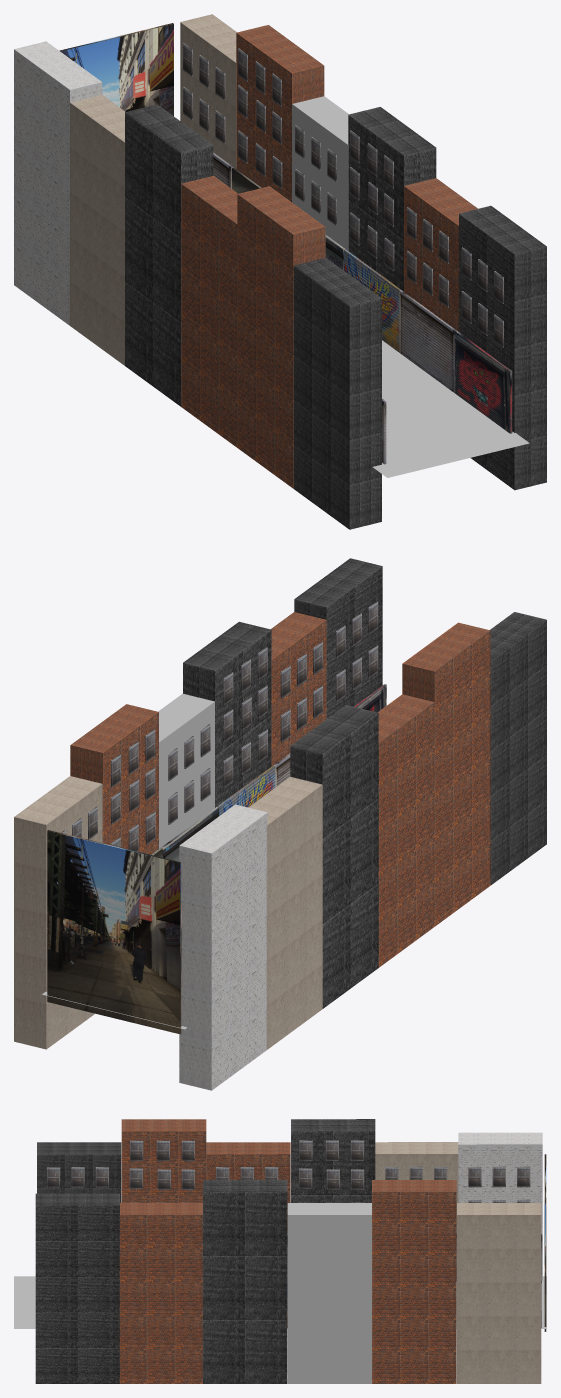
The model's file is ExportedC4DFBXFile.fbx.
3 views of the same model, one above another, from view 1: azimuth 30°, elevation 25°; view 2: azimuth 150°, elevation 25°; view 3: azimuth 270°, elevation 25° (orthographic). The views are drawn at different scales.
Parts seen in each view (by area): view 1: whitebrickbuilding_1, tall_brick_building_2, black_building_2, loneWolfbuilding, loneWolfbuilding_2, whitebrickbuilding_3, redbrickbuilding_2, Ground, black_building, tall_brick_building, fake_distance, redbrickbuilding (+5 smaller); view 2: fake_distance, loneWolfbuilding_2, tall_brick_building_2, black_building_2, redbrickbuilding_2, whitebrickbuilding_1, whitebrickbuilding_3, whitebrickbuilding, black_building, tall_brick_building, loneWolfbuilding, whitebrickbuilding_2 (+3 smaller); view 3: tall_brick_building, black_building, loneWolfbuilding, whitebrickbuilding_2, whitebrickbuilding, redbrickbuilding, tall_brick_building_2, black_building_2, loneWolfbuilding_2, whitebrickbuilding_1, whitebrickbuilding_3, redbrickbuilding_2 (+2 smaller).
Part boxes in pixels (left/top/right/bottom): whitebrickbuilding_1: left=293, top=257, right=381, bottom=529; tall_brick_building_2: left=237, top=186, right=325, bottom=488; black_building_2: left=125, top=104, right=213, bottom=406; loneWolfbuilding: left=459, top=205, right=546, bottom=490; loneWolfbuilding_2: left=14, top=41, right=102, bottom=325; whitebrickbuilding_3: left=181, top=176, right=237, bottom=447; redbrickbuilding_2: left=69, top=95, right=125, bottom=365; Ground: left=373, top=340, right=529, bottom=477; black_building: left=348, top=107, right=436, bottom=291; tall_brick_building: left=236, top=25, right=324, bottom=202; fake_distance: left=59, top=23, right=173, bottom=115; redbrickbuilding: left=404, top=178, right=477, bottom=331; fake_distance: left=47, top=830, right=181, bottom=1034; loneWolfbuilding_2: left=179, top=804, right=267, bottom=1090; tall_brick_building_2: left=402, top=622, right=490, bottom=926; black_building_2: left=290, top=705, right=378, bottom=1008; redbrickbuilding_2: left=248, top=777, right=322, bottom=1049; whitebrickbuilding_1: left=490, top=612, right=546, bottom=884; whitebrickbuilding_3: left=378, top=694, right=434, bottom=967; whitebrickbuilding: left=14, top=776, right=102, bottom=1049; black_building: left=183, top=621, right=271, bottom=807; tall_brick_building: left=70, top=704, right=158, bottom=854; loneWolfbuilding: left=294, top=558, right=382, bottom=718; whitebrickbuilding_2: left=158, top=693, right=214, bottom=848; tall_brick_building: left=372, top=1180, right=456, bottom=1383; black_building: left=203, top=1180, right=287, bottom=1383; loneWolfbuilding: left=35, top=1193, right=119, bottom=1383; whitebrickbuilding_2: left=287, top=1203, right=372, bottom=1383; whitebrickbuilding: left=457, top=1203, right=541, bottom=1383; redbrickbuilding: left=118, top=1203, right=202, bottom=1383; tall_brick_building_2: left=121, top=1119, right=206, bottom=1202; black_building_2: left=291, top=1119, right=375, bottom=1202; loneWolfbuilding_2: left=458, top=1132, right=542, bottom=1279; whitebrickbuilding_1: left=37, top=1142, right=121, bottom=1202; whitebrickbuilding_3: left=206, top=1142, right=290, bottom=1232; redbrickbuilding_2: left=375, top=1142, right=459, bottom=1232.
Bounding box in the file's own units: 971 × 1192 × 3000.
